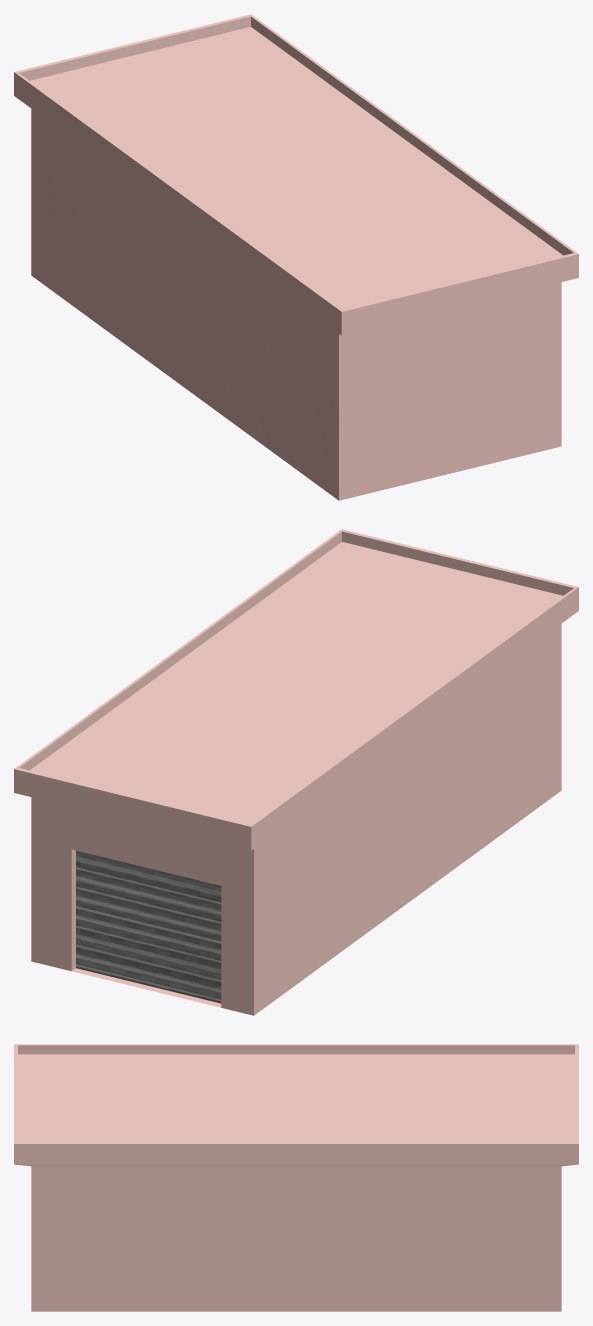
File: vr發電機房.fbx
3 views of the same model, one above another, from view 1: azimuth 30°, elevation 25°; view 2: azimuth 150°, elevation 25°; view 3: azimuth 270°, elevation 25° (orthographic). The views are drawn at different scales.
Visible parts, largest first — view 1: 立方体.422; view 2: 立方体.422; view 3: 立方体.422.
Boxes of the visible parts, x1,y1,x2,y2 form: 立方体.422: [14, 14, 578, 500]; 立方体.422: [14, 529, 578, 1015]; 立方体.422: [14, 1044, 578, 1311].
Size of the model in its own units: 559 by 446 by 1338.
2 materials, 1 textured.
